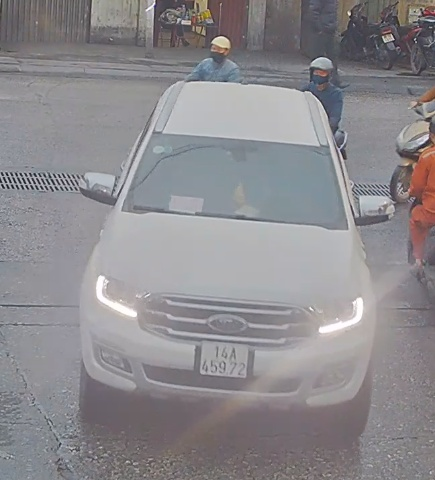vehicle plate: (191, 334, 255, 388)
